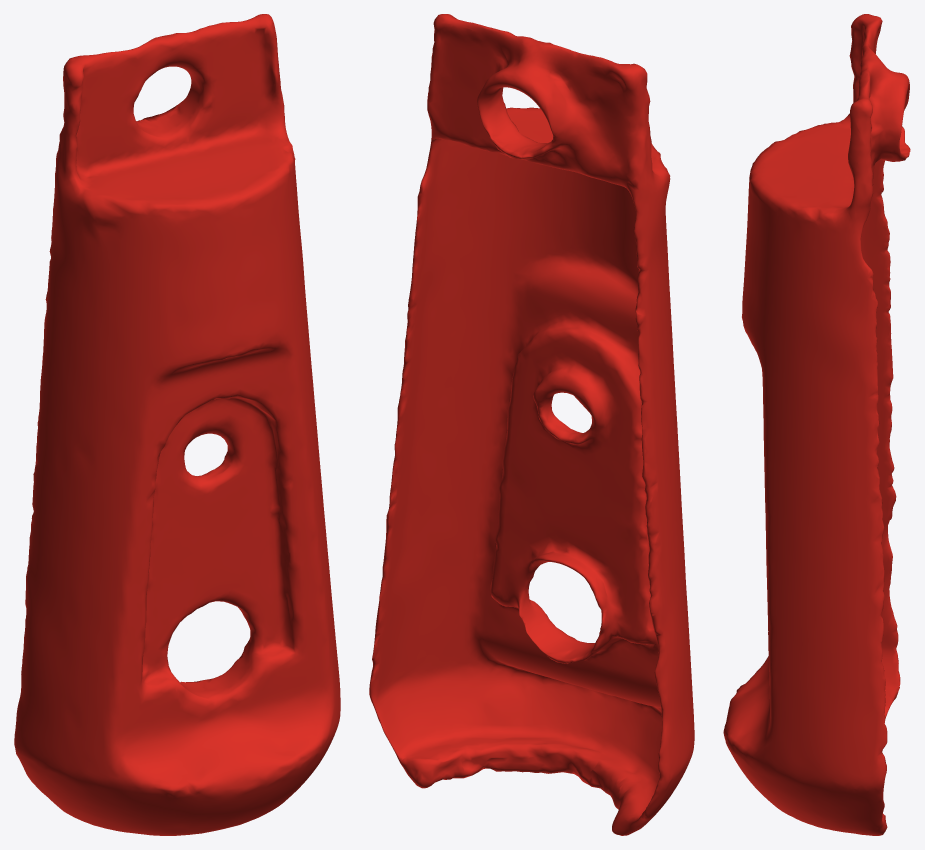
The model's file is UnderBody.obj.
3 renders of one model, left to right at view 1: azimuth 30°, elevation 25°; view 2: azimuth 150°, elevation 25°; view 3: azimuth 270°, elevation 25°, orthographic. The views are drawn at different scales.
Visible parts, largest first — view 1: UnderBody; view 2: UnderBody; view 3: UnderBody.
Boxes of the visible parts, x1,y1,x2,y2 form: UnderBody: (14,14,340,835); UnderBody: (369,14,694,835); UnderBody: (723,14,910,835).
Bounding box in the file's own units: 0.0772 × 0.1869 × 0.0432.
Materials: 1 (1 with a texture image).
